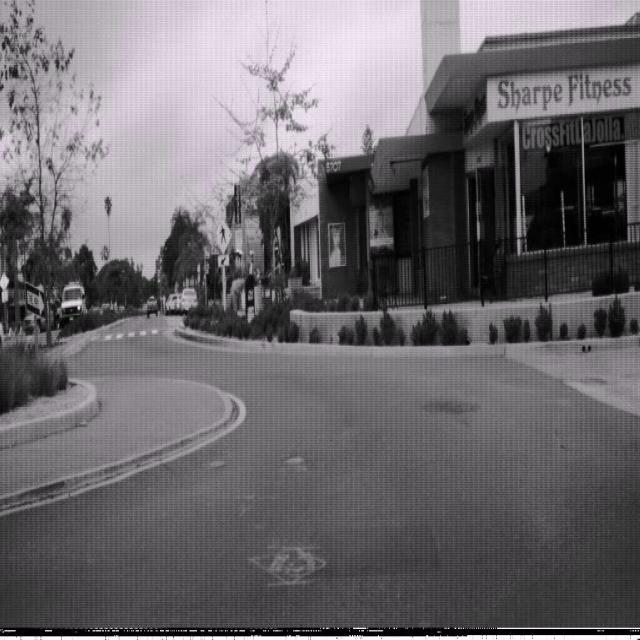pedestrianCrossing: (212, 216, 232, 255)
